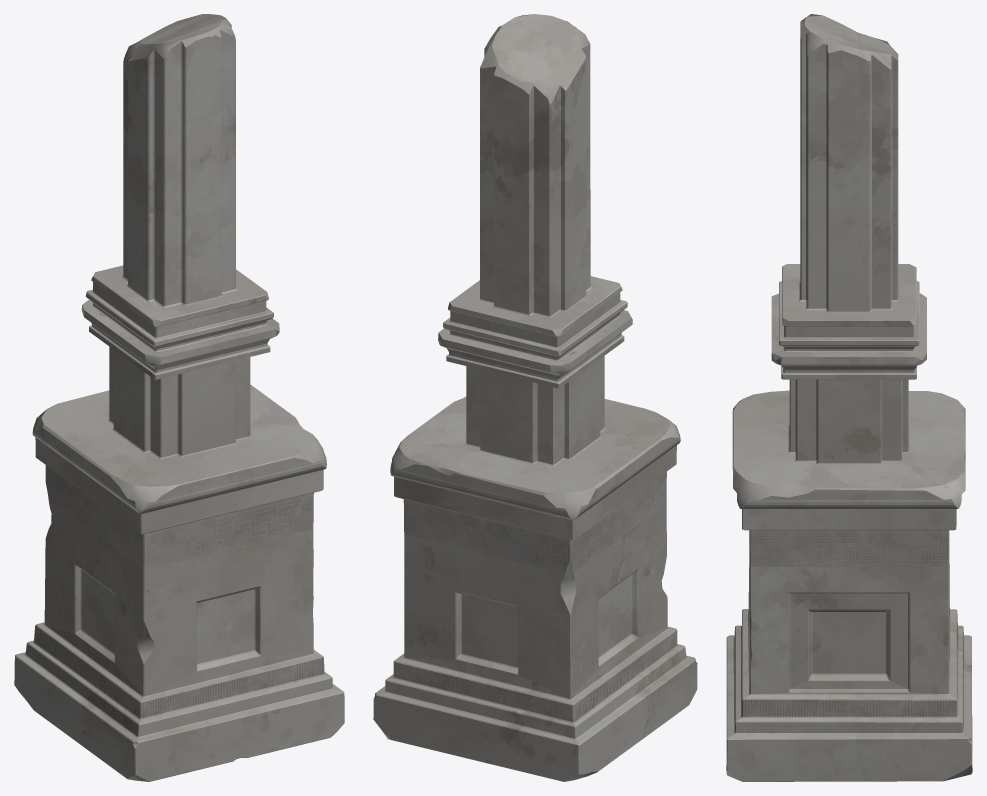
Rendered from SM_Pillar_02.fbx.
The picture shows the model from 3 angles, left to right: view 1: azimuth 30°, elevation 25°; view 2: azimuth 150°, elevation 25°; view 3: azimuth 270°, elevation 25°; orthographic projection. The views are drawn at different scales.
Visible parts, largest first — view 1: SM_Pillar_02_LOD0; view 2: SM_Pillar_02_LOD0; view 3: SM_Pillar_02_LOD0.
Part boxes in pixels (bbox=[...]): SM_Pillar_02_LOD0: bbox=[14, 14, 344, 781]; SM_Pillar_02_LOD0: bbox=[373, 14, 697, 781]; SM_Pillar_02_LOD0: bbox=[726, 14, 972, 781].
Bounding box in the file's own units: 206 × 206 × 654.
Materials: 2 (2 with a texture image).
